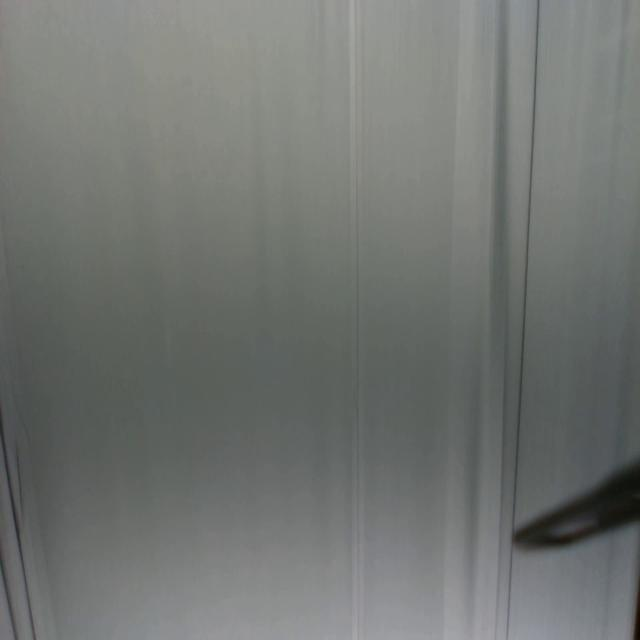crease: (512, 0, 539, 524), (347, 0, 365, 639), (0, 414, 38, 635), (493, 314, 508, 640), (504, 548, 515, 640)
